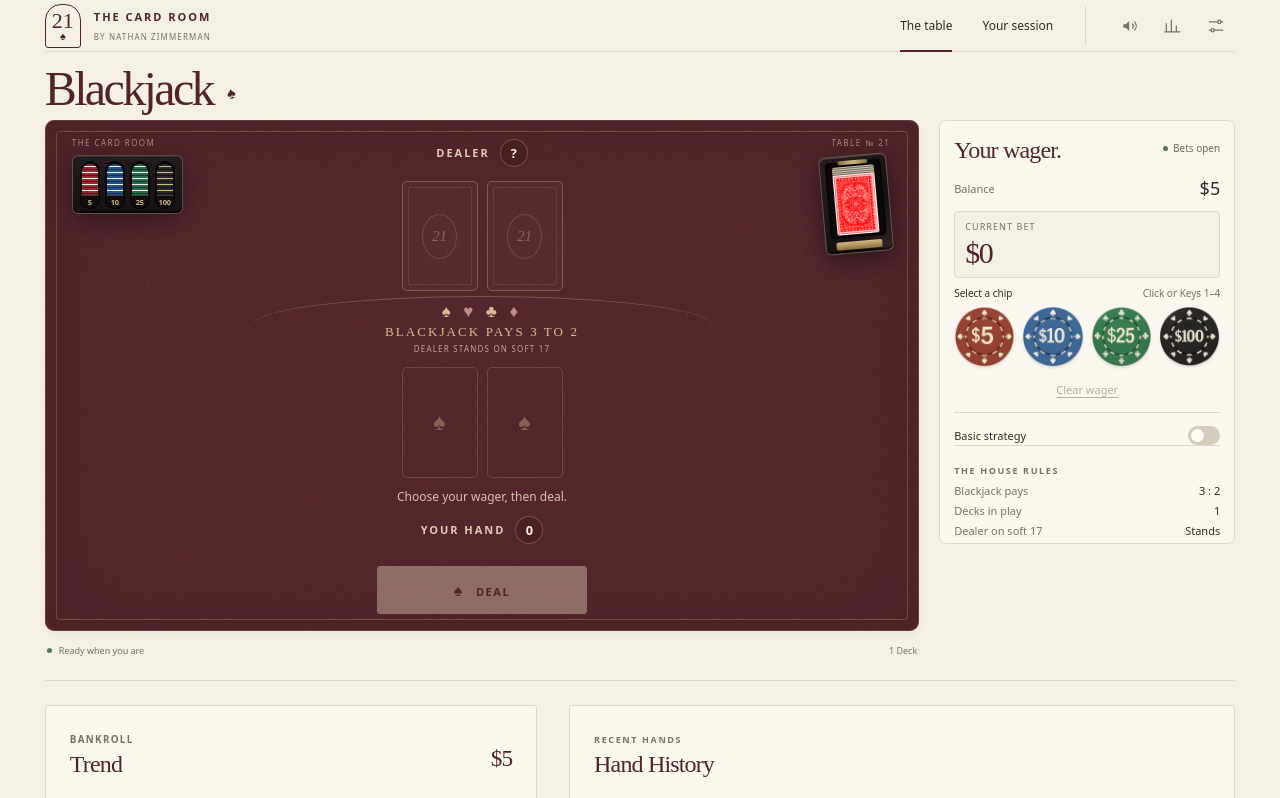
Test: BlackjackGame › blocks bets that exceed the available balance and shows a message
This screenshot has width=1280, height=798.
Expected: the text "Balance" is shown, [954,181,995,196]
Expected: the text "$5" in the row of "Balance" is shown, [1200,176,1220,200]
Click the button with alt text "$25 chip".
click(1121, 336)  # box [1091,306,1152,367]
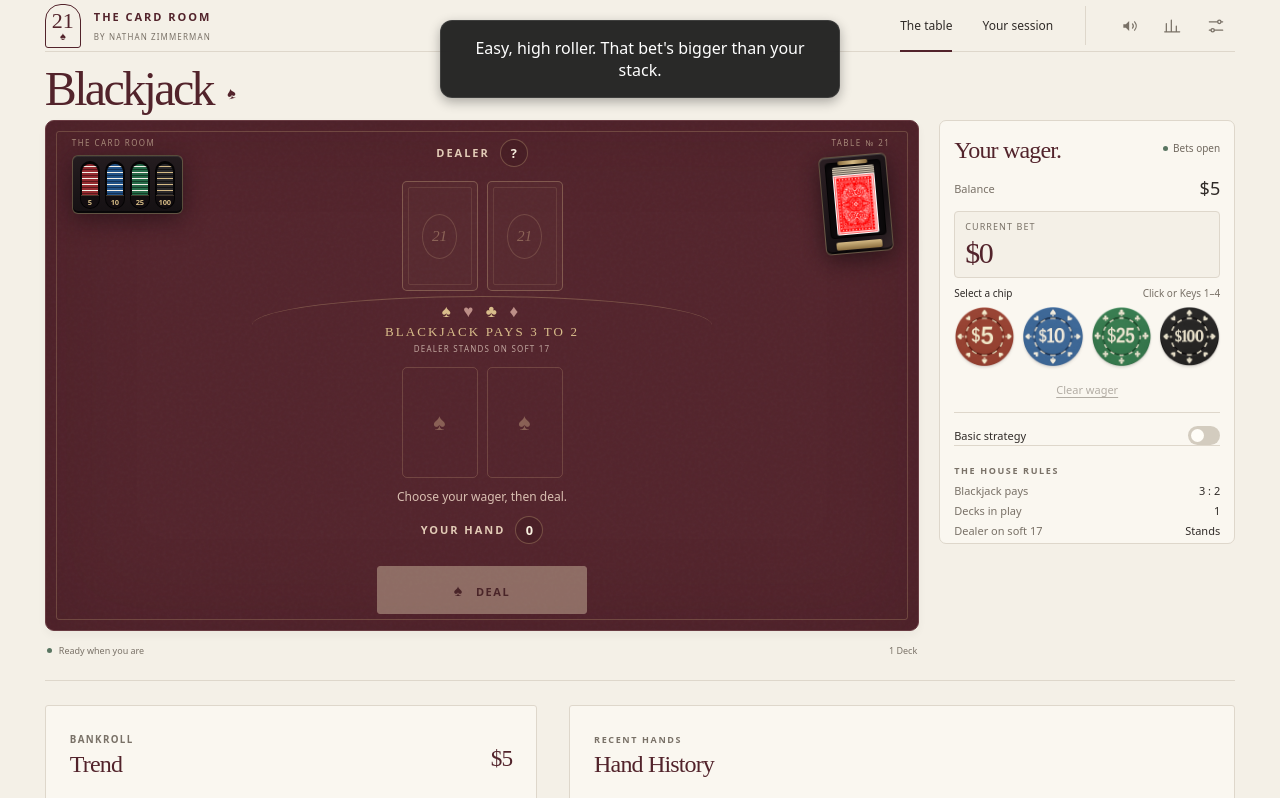
Expected: the text "Easy, high roller. That bet's bigger than your stack." is shown, [440,20,840,98]
